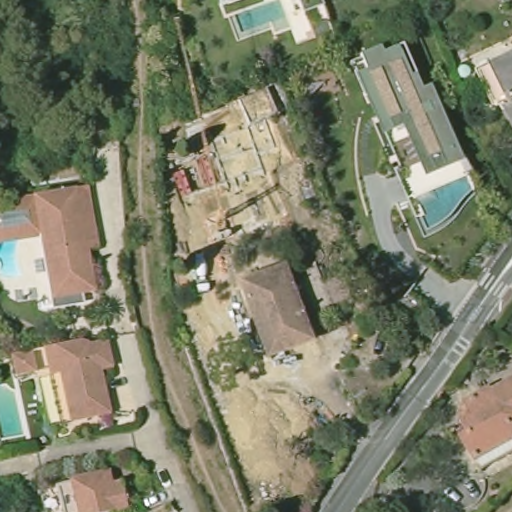pool: (229, 1, 298, 41), (1, 369, 33, 445), (1, 225, 30, 286)
